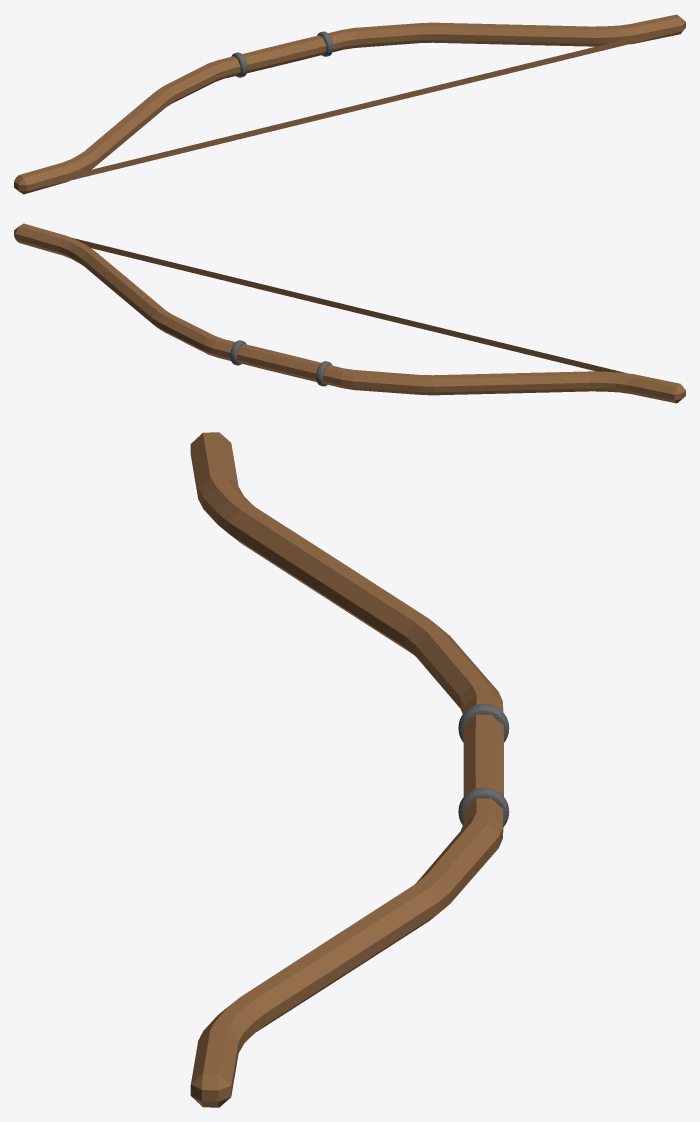
The model's file is Bow.dae.
3 views of the same model, one above another, from view 1: azimuth 30°, elevation 25°; view 2: azimuth 150°, elevation 25°; view 3: azimuth 270°, elevation 25° (orthographic). The views are drawn at different scales.
Parts seen in each view (by area): view 1: Cube; view 2: Cube; view 3: Cube.
Part boxes in pixels (x1,y1,x2,y2): Cube: (14,14,685,194); Cube: (14,223,685,403); Cube: (190,432,509,1107).
Bounding box in the file's own units: 31.41 × 6.48 × 1.03.
1 material, 1 textured.
